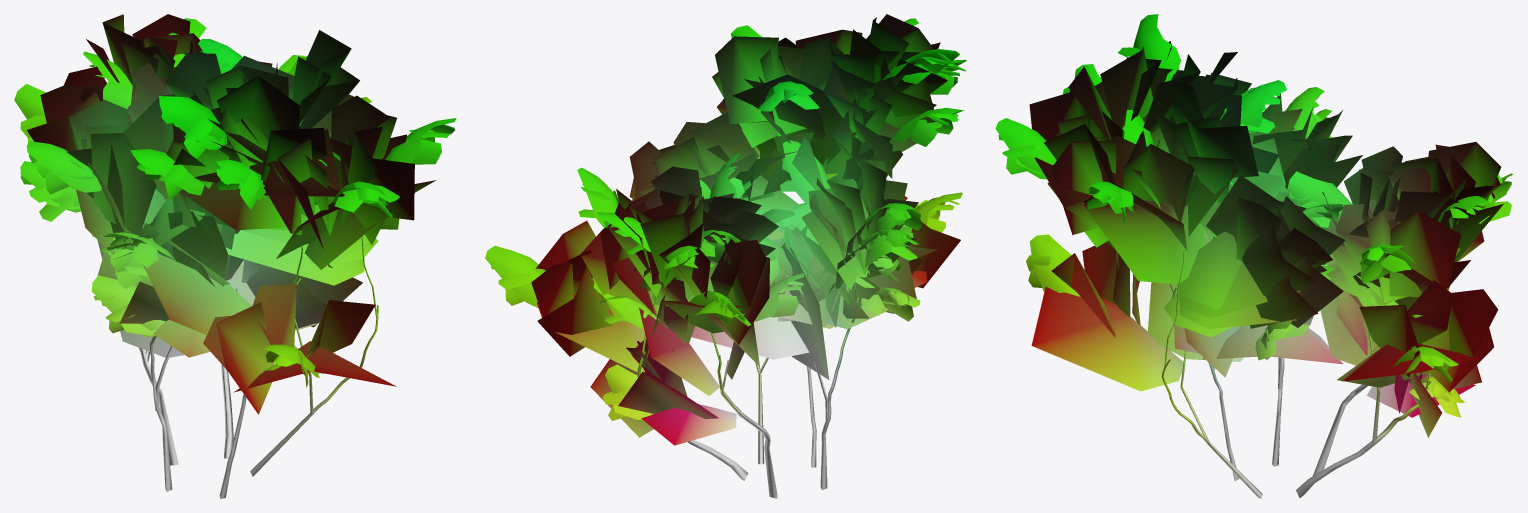
Rendered from arden_forest_lilac_04_white.fbx.
The picture shows the model from 3 angles, left to right: view 1: azimuth 30°, elevation 25°; view 2: azimuth 150°, elevation 25°; view 3: azimuth 270°, elevation 25°; orthographic projection. The views are drawn at different scales.
Visible parts, largest first — view 1: arden_forest_lilac_04_white; view 2: arden_forest_lilac_04_white; view 3: arden_forest_lilac_04_white.
Boxes of the visible parts, box(x1,y1,x2,y2) form: arden_forest_lilac_04_white: box(14, 14, 456, 498); arden_forest_lilac_04_white: box(485, 14, 966, 498); arden_forest_lilac_04_white: box(995, 14, 1512, 498).
Bounding box in the file's own units: 2.77 × 3.32 × 3.
